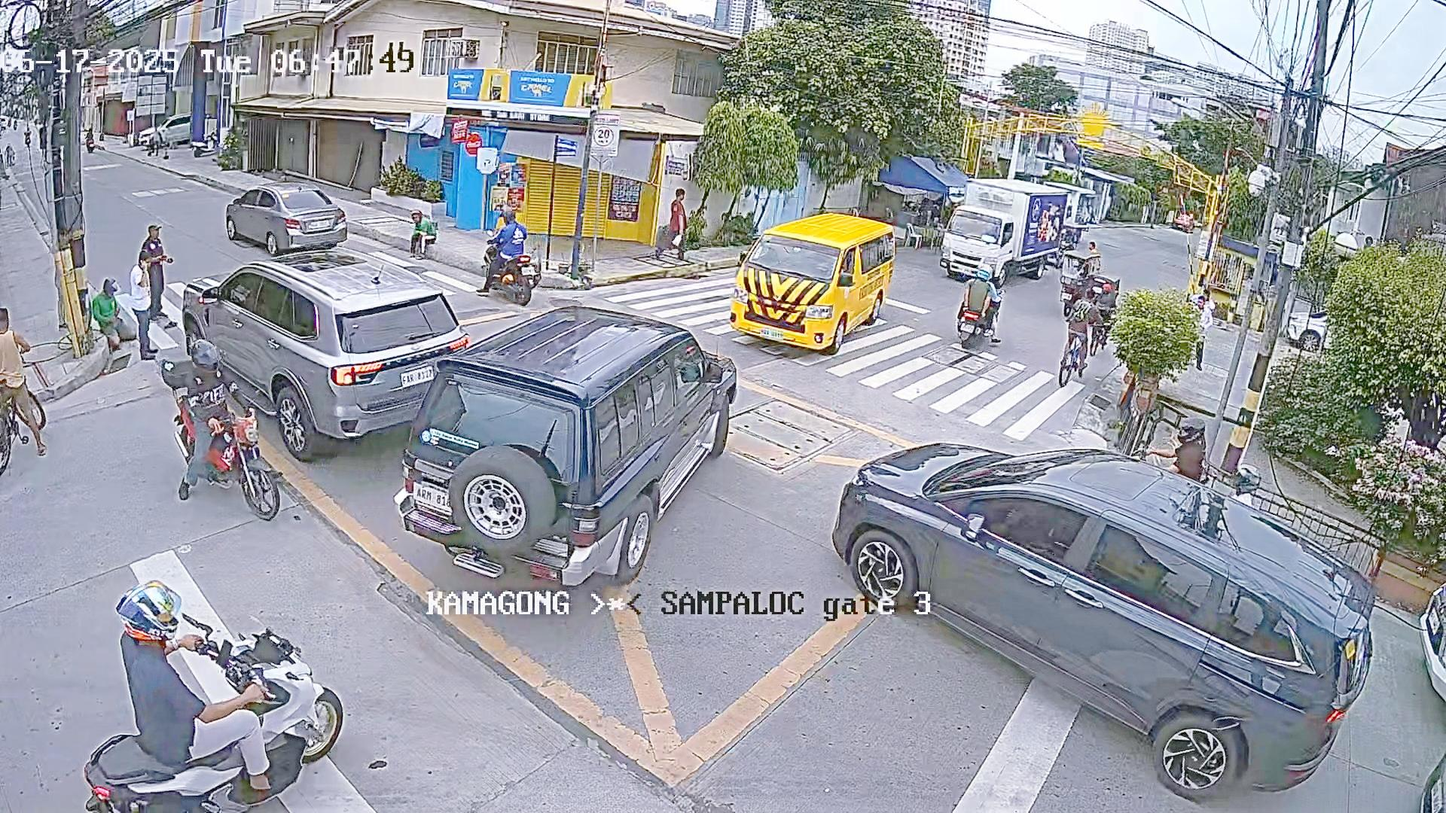Car: (837, 413, 1393, 811), (410, 301, 743, 599), (160, 243, 481, 447), (699, 193, 906, 368), (925, 158, 1091, 283), (181, 173, 392, 268), (947, 244, 1031, 359)
Motor: (84, 542, 395, 813), (120, 315, 300, 517), (480, 201, 547, 318)
Not Accident: (178, 225, 762, 623)
